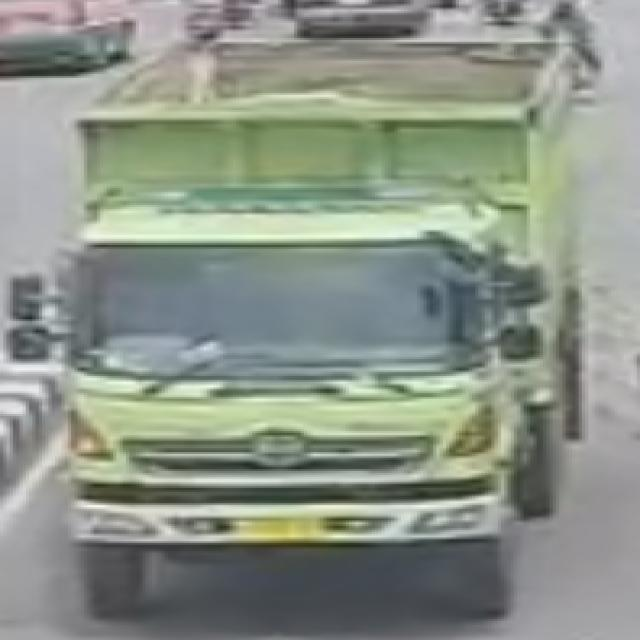Truck: (69, 10, 599, 620)
